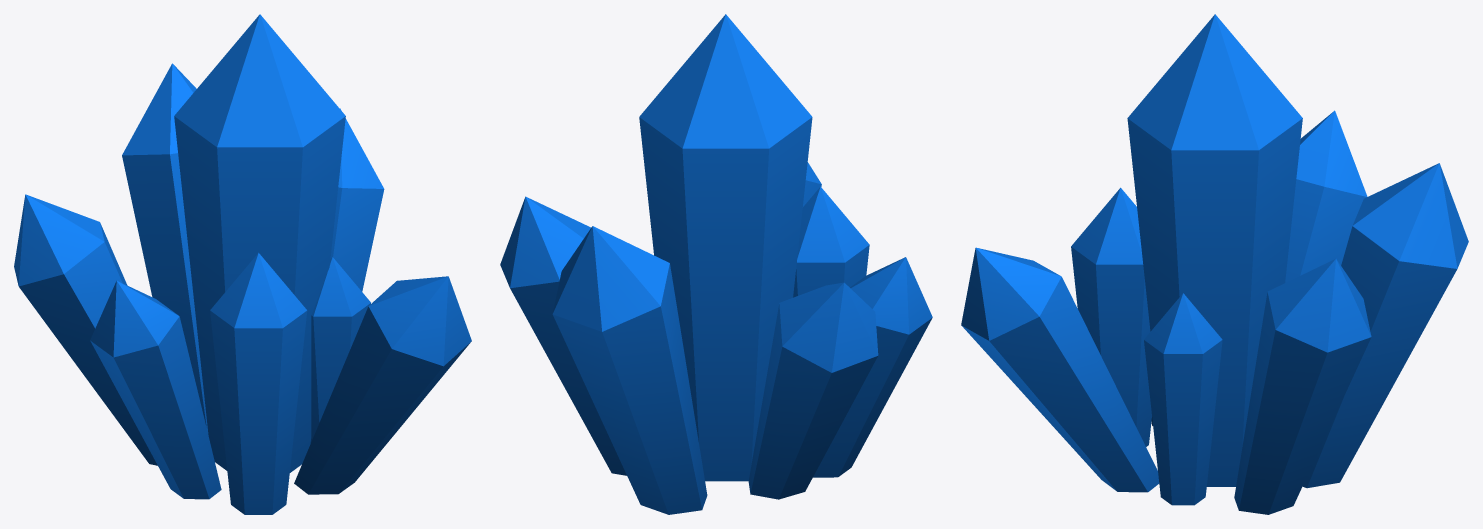
The model's file is nat_crystal_cluster_5.glb.
The picture shows the model from 3 angles, left to right: view 1: azimuth 30°, elevation 25°; view 2: azimuth 150°, elevation 25°; view 3: azimuth 270°, elevation 25°; orthographic projection. The views are drawn at different scales.
Visible parts, largest first — view 1: nat_crystal_cluster_5; view 2: nat_crystal_cluster_5; view 3: nat_crystal_cluster_5.
Part boxes in pixels (<box>): nat_crystal_cluster_5: <box>14,14,471,514</box>; nat_crystal_cluster_5: <box>500,14,932,514</box>; nat_crystal_cluster_5: <box>961,14,1468,514</box>.
Size of the model in its own units: 1.37 by 1.6 by 1.61.
